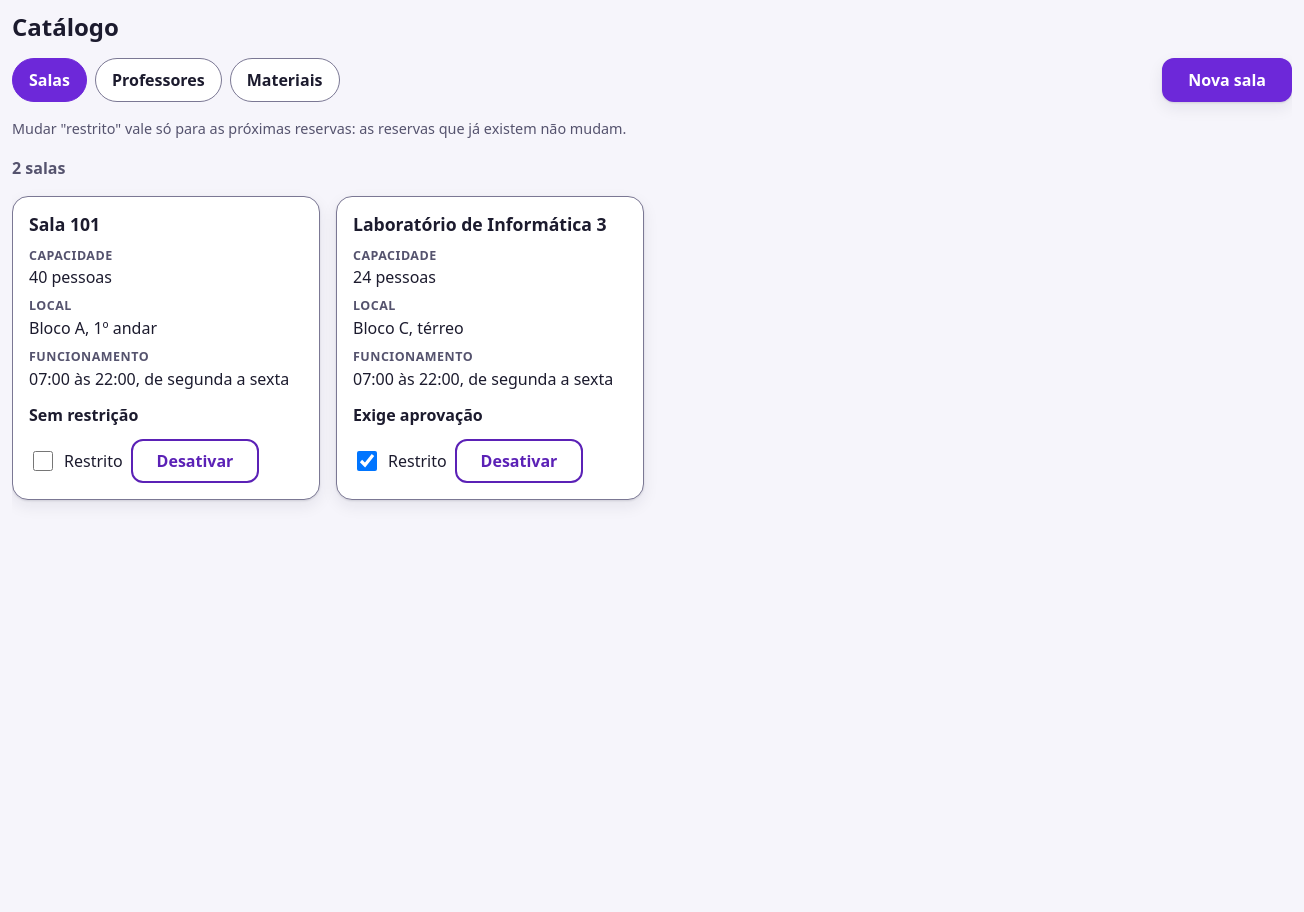
it: PaginaDoCatalogo: restrito › 403 ACESSO_NEGADO: a mensagem e a ação da tabela de erros aparecem no cartão, com o foco, e a caixa volta a funcionar
This screenshot has width=1304, height=912.
Click the checkbox named "Restrito Sala 101": (43, 461) top-left (33, 451), bottom-right (53, 471)
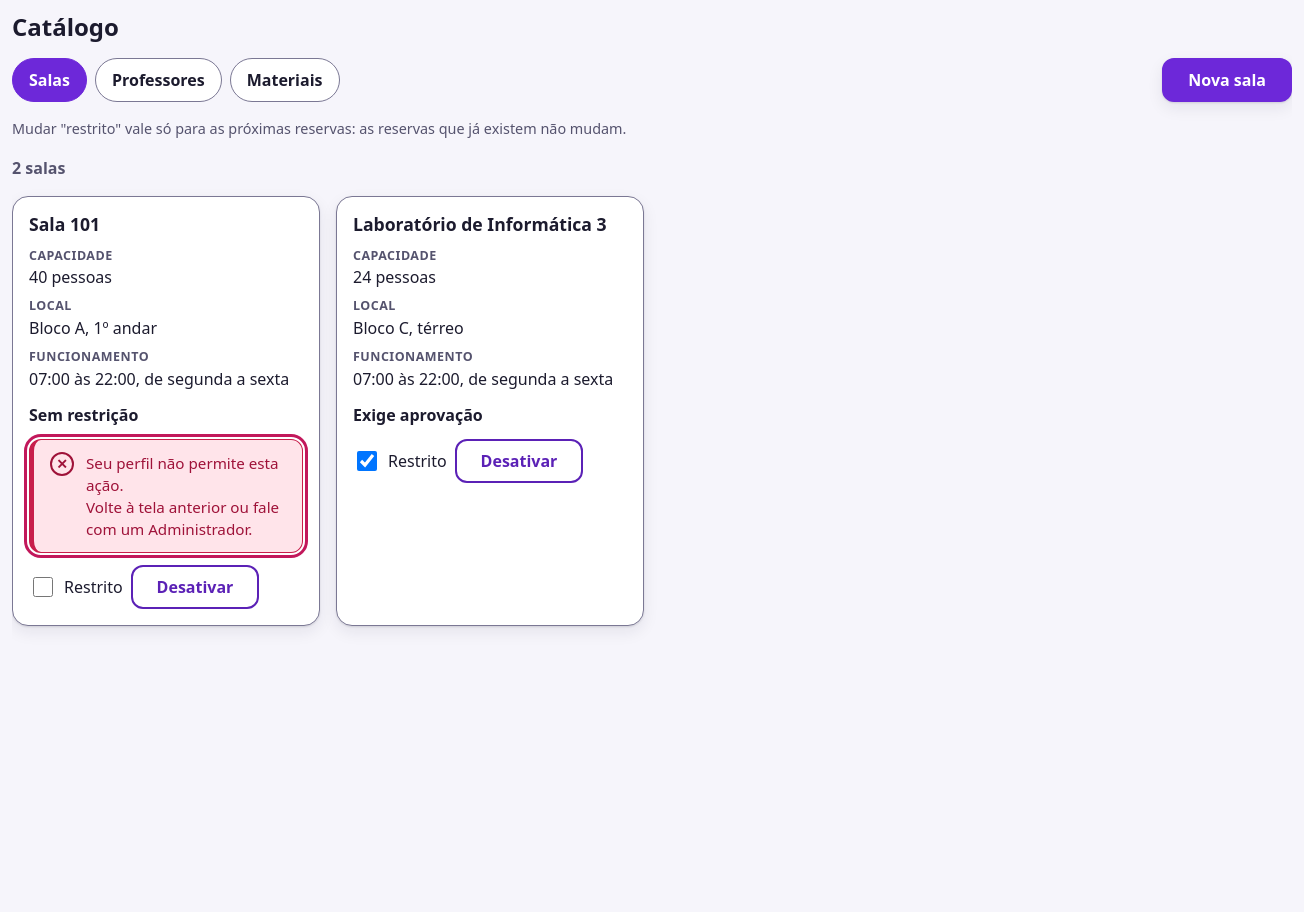
Expected: the checkbox named "Restrito Sala 101" is enabled, top-left (33, 577), bottom-right (53, 597)
Result: the message shows "Seu perfil não permite esta ação." at top-left (86, 453), bottom-right (279, 495)
